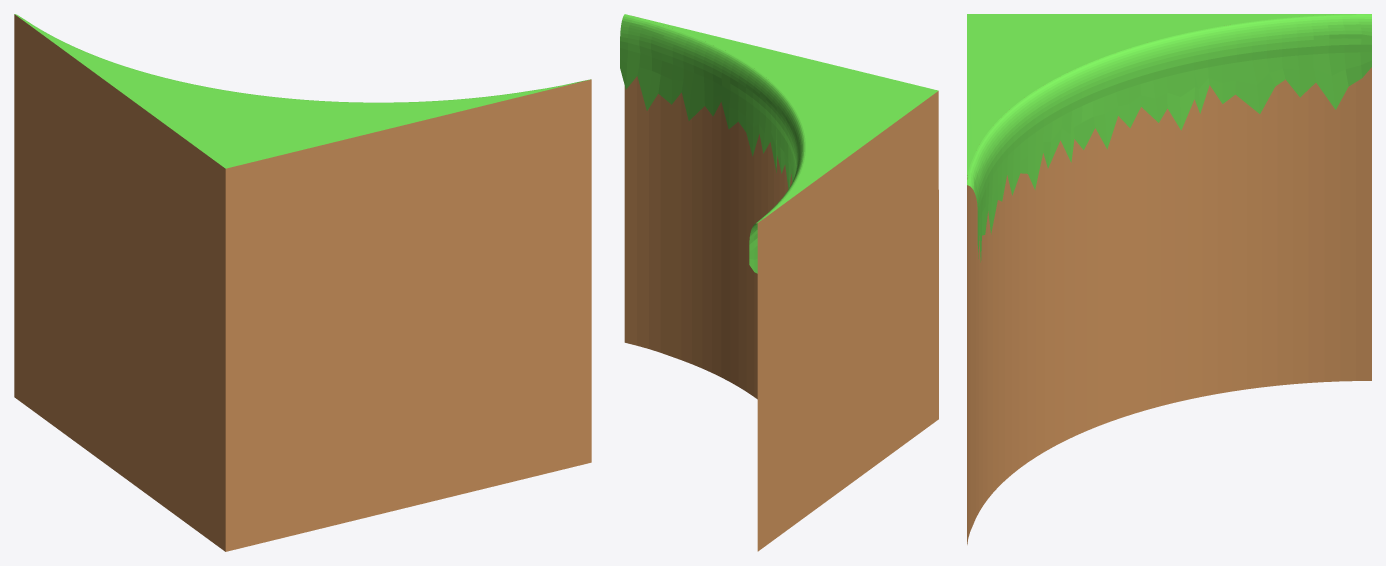
3 renders of one model, left to right at view 1: azimuth 30°, elevation 25°; view 2: azimuth 150°, elevation 25°; view 3: azimuth 270°, elevation 25°, orthographic. The views are drawn at different scales.
Visible parts, largest first — view 1: Bottom; view 2: Bottom, Grass; view 3: Bottom, Grass.
Part boxes in pixels (x1,y1,x2,y2): Bottom: (14,14,591,551); Bottom: (624,16,938,551); Grass: (620,14,805,273); Bottom: (967,14,1371,544); Grass: (967,14,1371,262).
Size of the model in its own units: 1 by 1 by 1.
